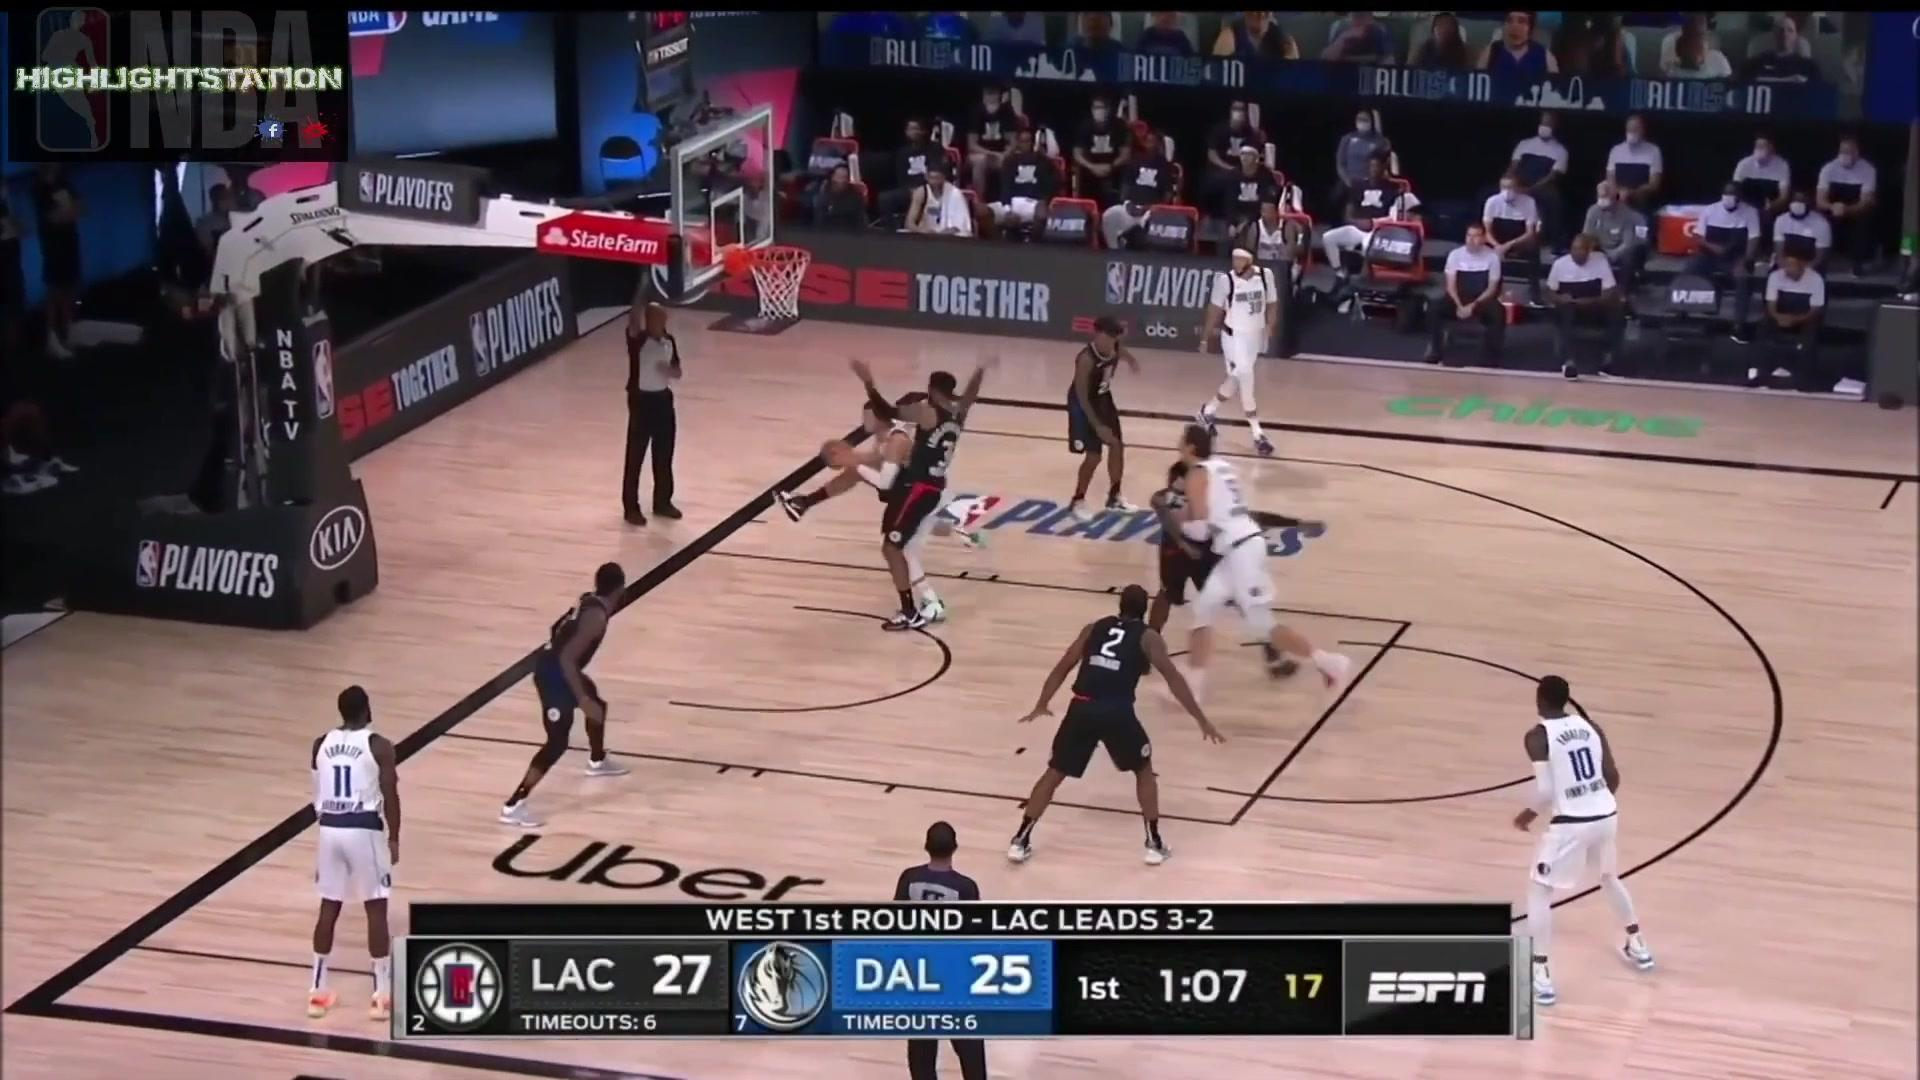no_foul: (787, 364, 1022, 634)
